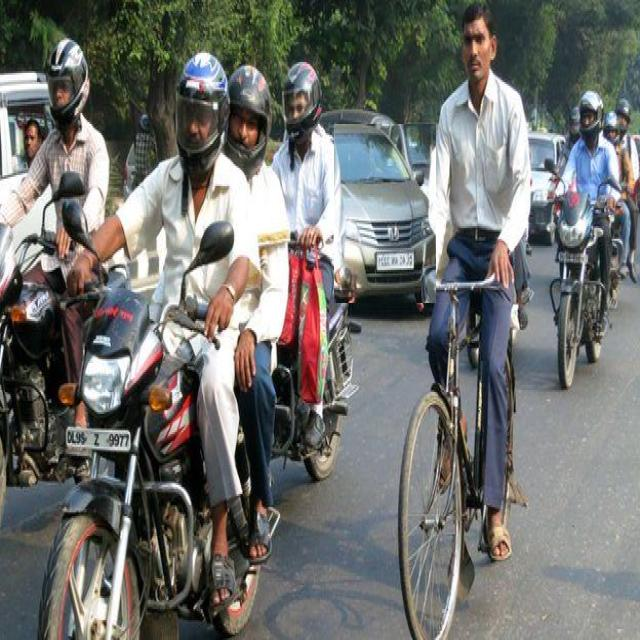bicycle: (399, 4, 532, 638)
car: (335, 125, 436, 303)
motorcycle: (39, 53, 293, 638), (543, 91, 622, 388)
